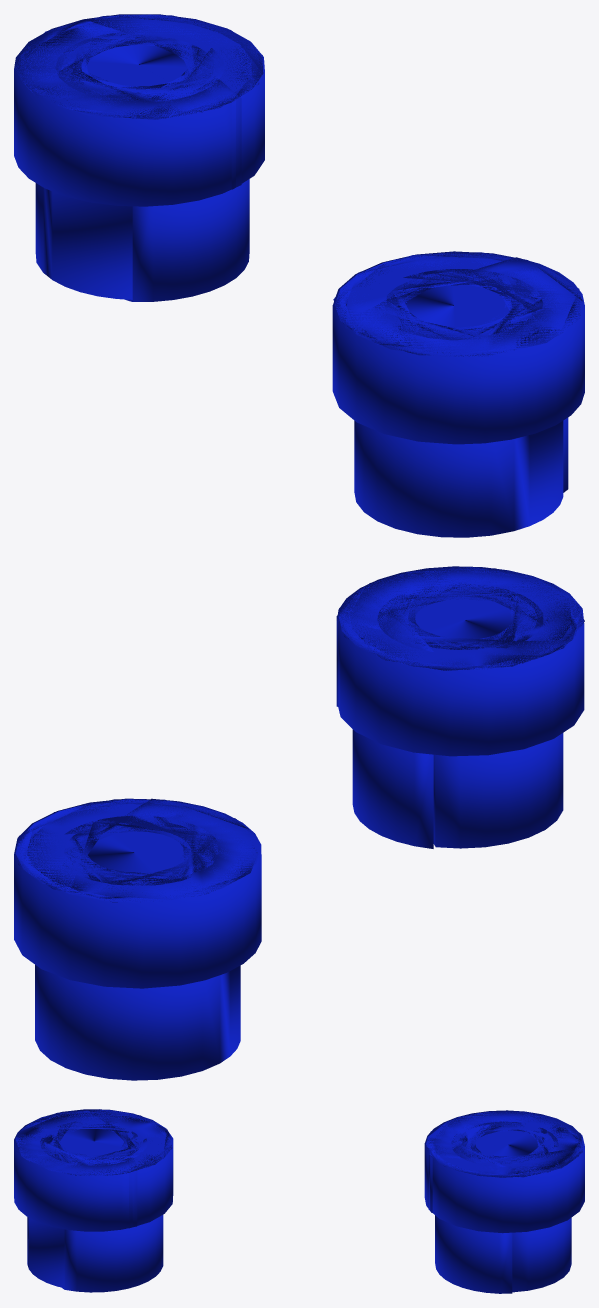
The model's file is tuyeau_element_000072.obj.
3 renders of one model, top to bottom at view 1: azimuth 30°, elevation 25°; view 2: azimuth 150°, elevation 25°; view 3: azimuth 270°, elevation 25°, orthographic. The views are drawn at different scales.
Parts seen in each view (by area): view 1: tuyeau1_Cube.014, tuyeau2_Cube.017; view 2: tuyeau2_Cube.017, tuyeau1_Cube.014; view 3: tuyeau1_Cube.014, tuyeau2_Cube.017.
Boxes of the visible parts, left/top/right/bottom form: tuyeau1_Cube.014: left=14, top=14, right=264, bottom=301; tuyeau2_Cube.017: left=332, top=251, right=584, bottom=537; tuyeau2_Cube.017: left=336, top=566, right=584, bottom=848; tuyeau1_Cube.014: left=14, top=798, right=261, bottom=1080; tuyeau1_Cube.014: left=424, top=1110, right=584, bottom=1293; tuyeau2_Cube.017: left=14, top=1109, right=173, bottom=1292.
Bounding box in the file's own units: 3595 × 2917 × 12567.
